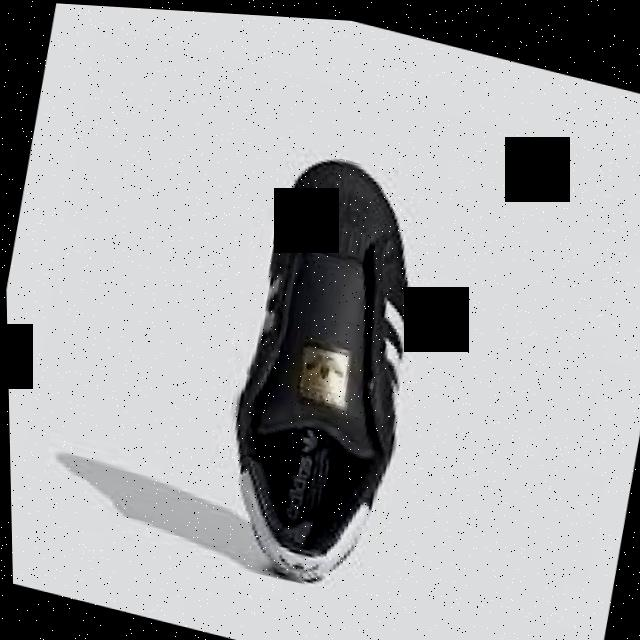shoe: (190, 134, 450, 600)
